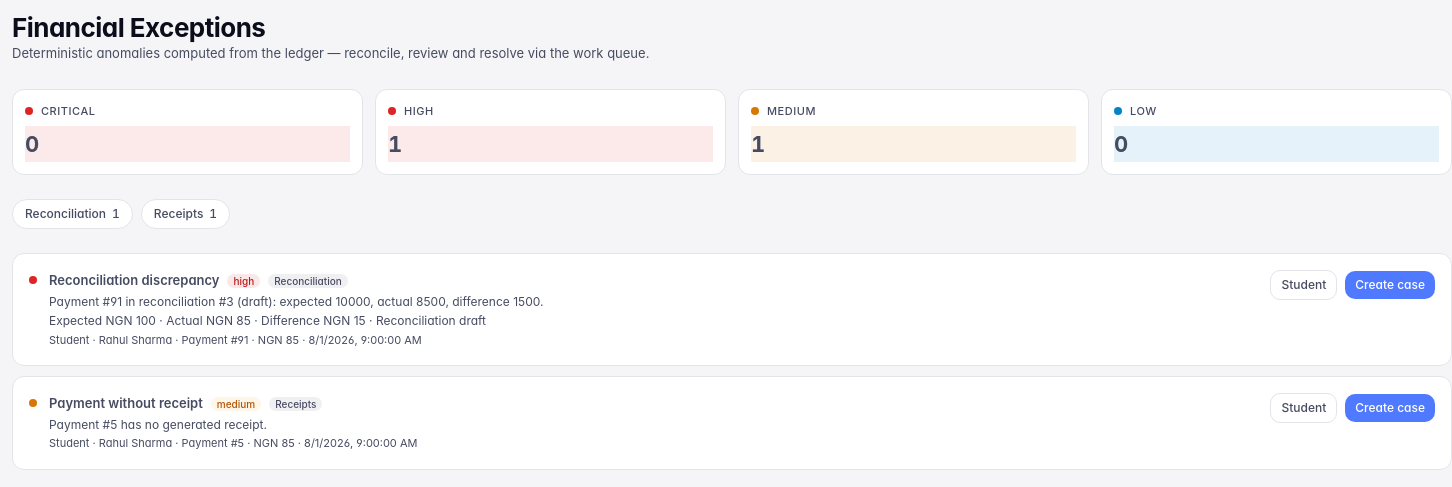
Test: Financial Exceptions page (P13) › filters findings by category chips
Check: the text "Payment without receipt" is shown, box [49,393,203,415]
Click the button "Reconciliation 1" at (72,214), box [12,199,133,229]
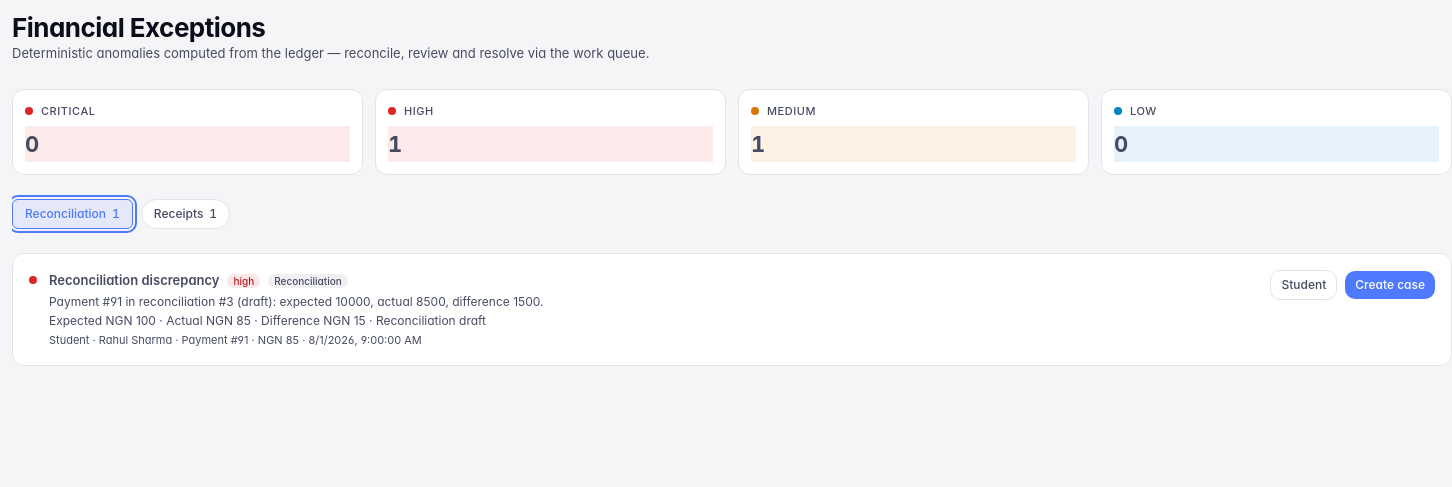
Check: the text "Reconciliation discrepancy" is shown, box [49,270,219,292]
Check: the text "Payment without receipt" is gone
